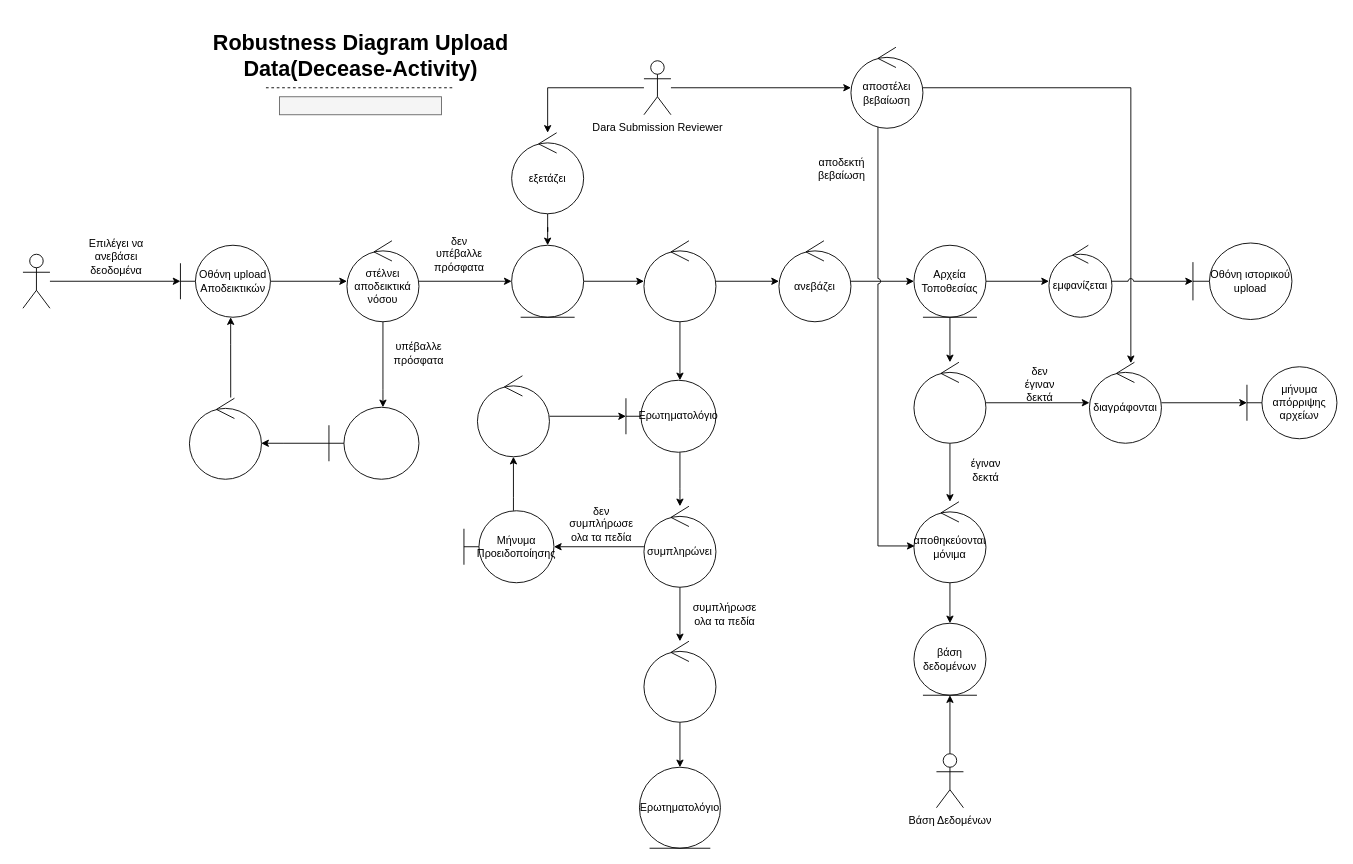
This 1353x864 diagram has some shape labels left out. The box of each missing label's shape, as (x1, y1, x2, y2) in pixels:
Pandaemon | 23April ,2021: (279, 96, 441, 115)
Αποδεικτικά Νόσου: (511, 244, 584, 317)
αποθηκεύονται προσωρινά: (913, 361, 986, 443)
Ενημερωτικό μήνυμα: (328, 406, 419, 479)
επέστρεψε: (189, 397, 261, 479)
επιλέγει: (643, 240, 716, 322)
μεταβαίνει: (477, 375, 549, 457)
υποβάλλει: (643, 640, 716, 722)
Χρήστης: (22, 253, 50, 308)
